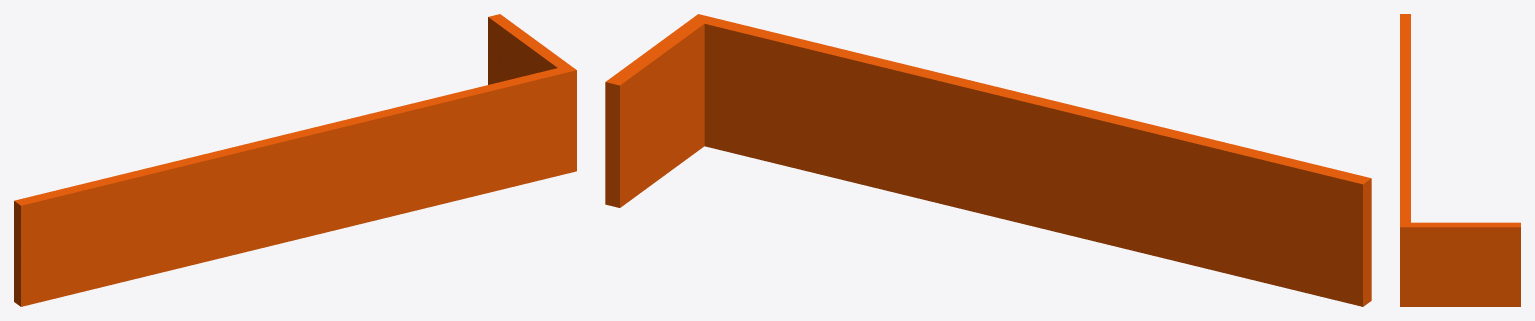
Rendered from Rampe.fbx.
3 renders of one model, left to right at view 1: azimuth 30°, elevation 25°; view 2: azimuth 150°, elevation 25°; view 3: azimuth 270°, elevation 25°, orthographic. The views are drawn at different scales.
Parts seen in each view (by area): view 1: Rampe; view 2: Rampe; view 3: Rampe.
Part boxes in pixels (x1=…): Rampe: x1=14, y1=14, x2=576, y2=306; Rampe: x1=605, y1=14, x2=1371, y2=306; Rampe: x1=1400, y1=14, x2=1520, y2=306.
Size of the model in its own units: 46 by 8 by 11.
